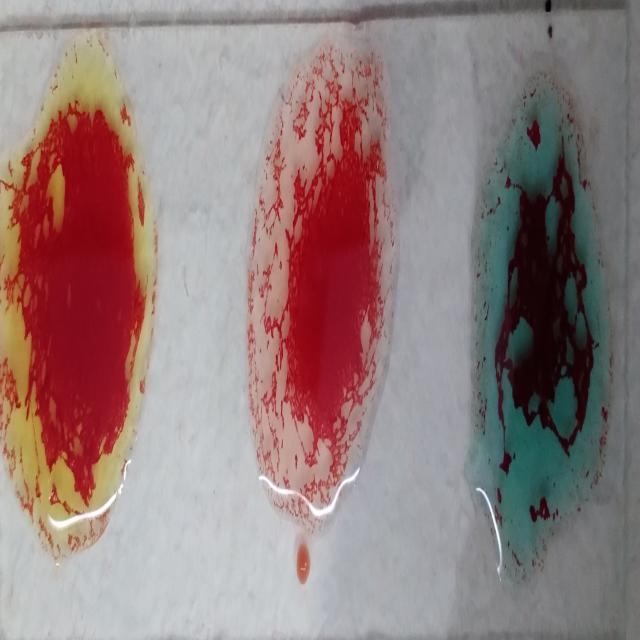A: (467, 78, 617, 594)
B: (4, 58, 150, 556)
D: (254, 41, 391, 519)
